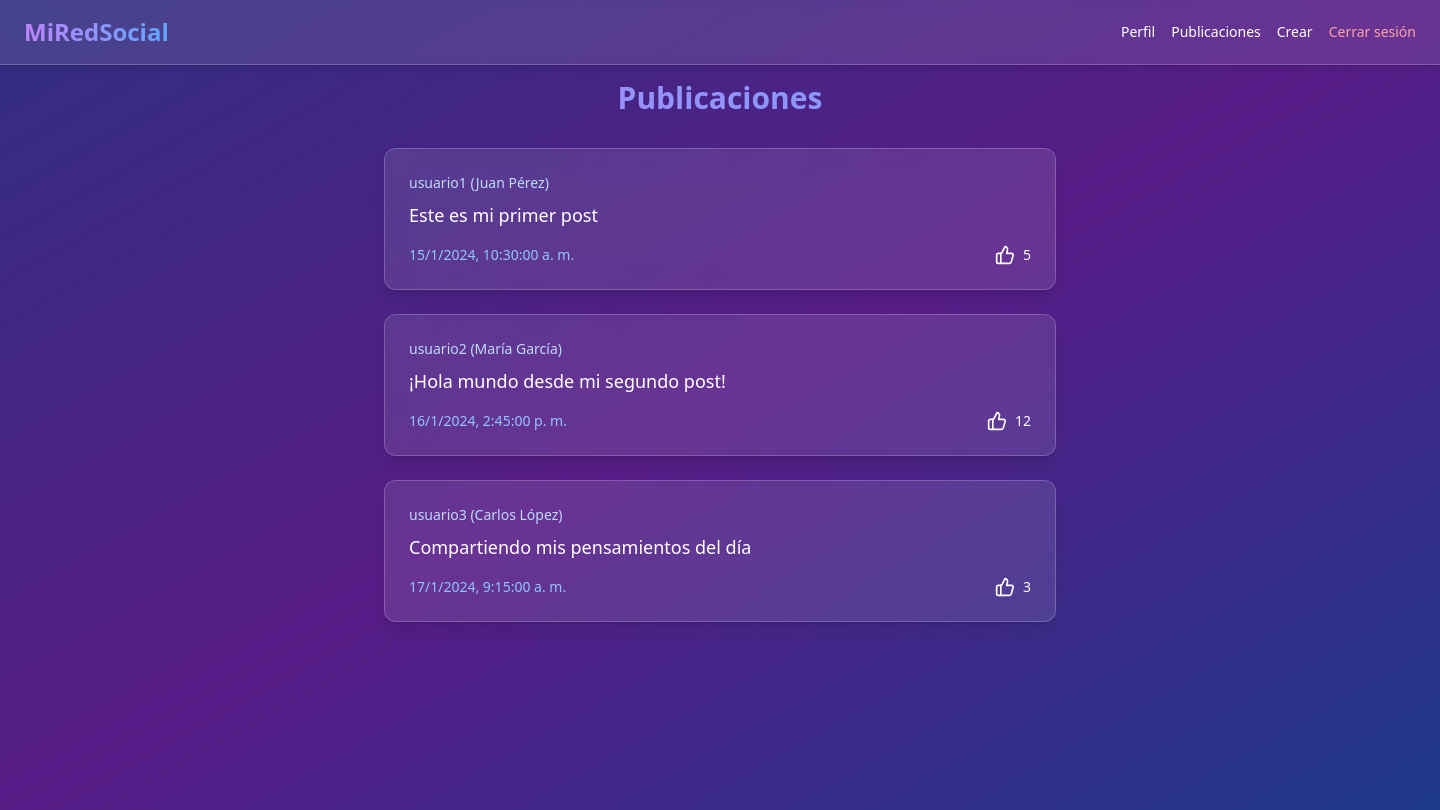
Test: Posts Component › permite dar like a una publicación
Check: the text "Este es mi primer post" is shown, box left=409, top=203, right=598, bottom=227
Click the button "5" at (1013, 255), box left=995, top=245, right=1031, bottom=265
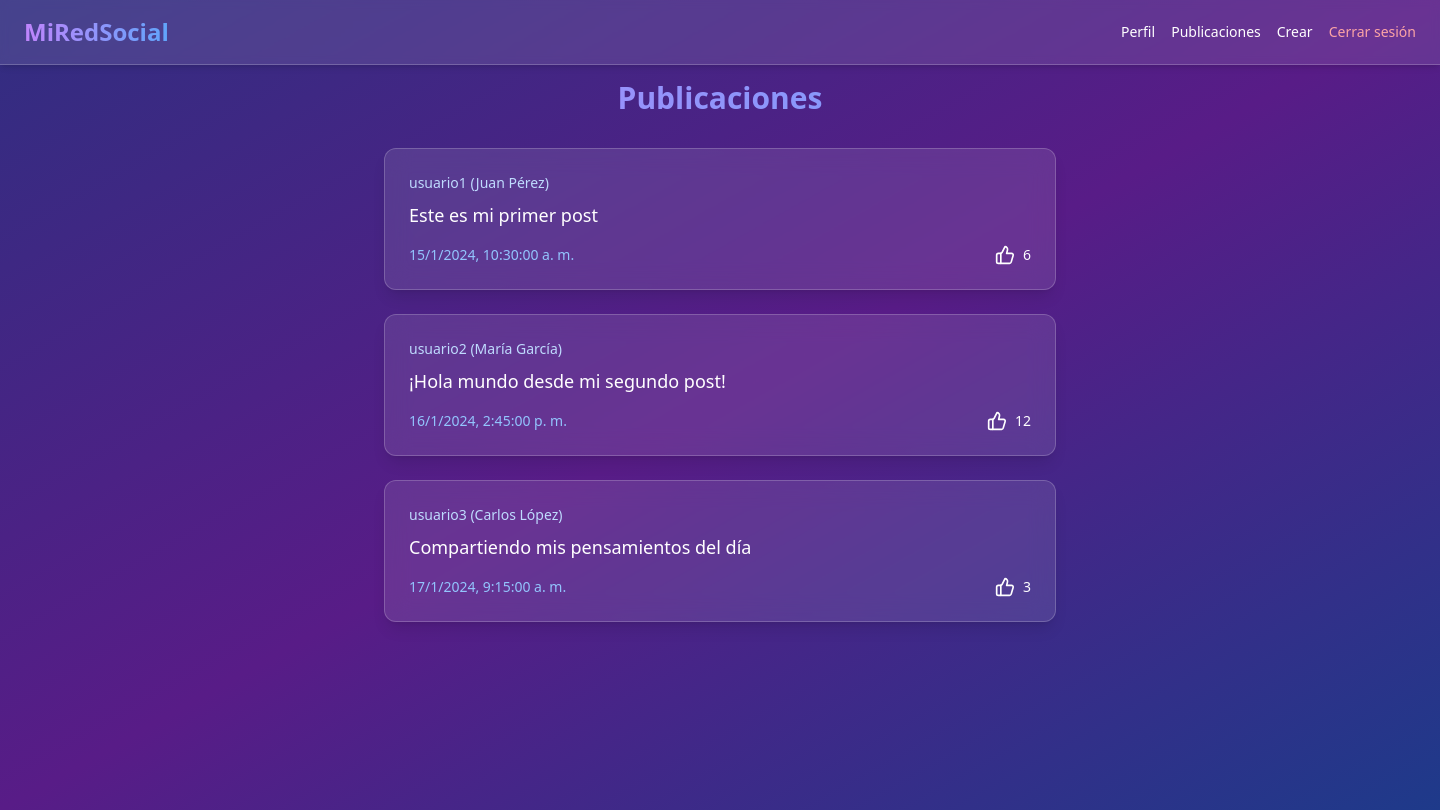
Check: the button "6" is shown, box left=995, top=245, right=1031, bottom=265
